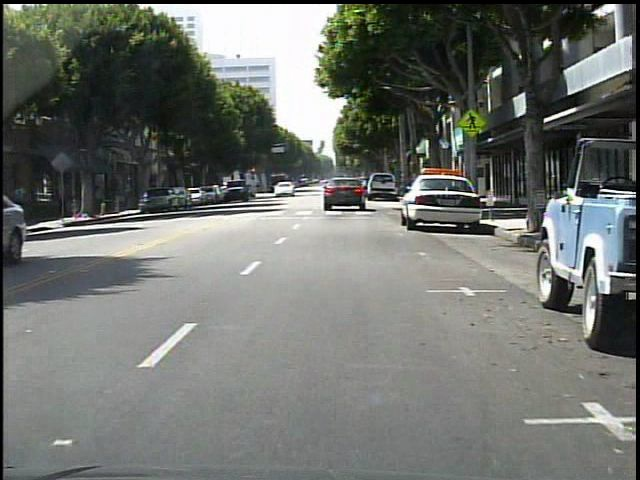person: (14, 179, 37, 229)
